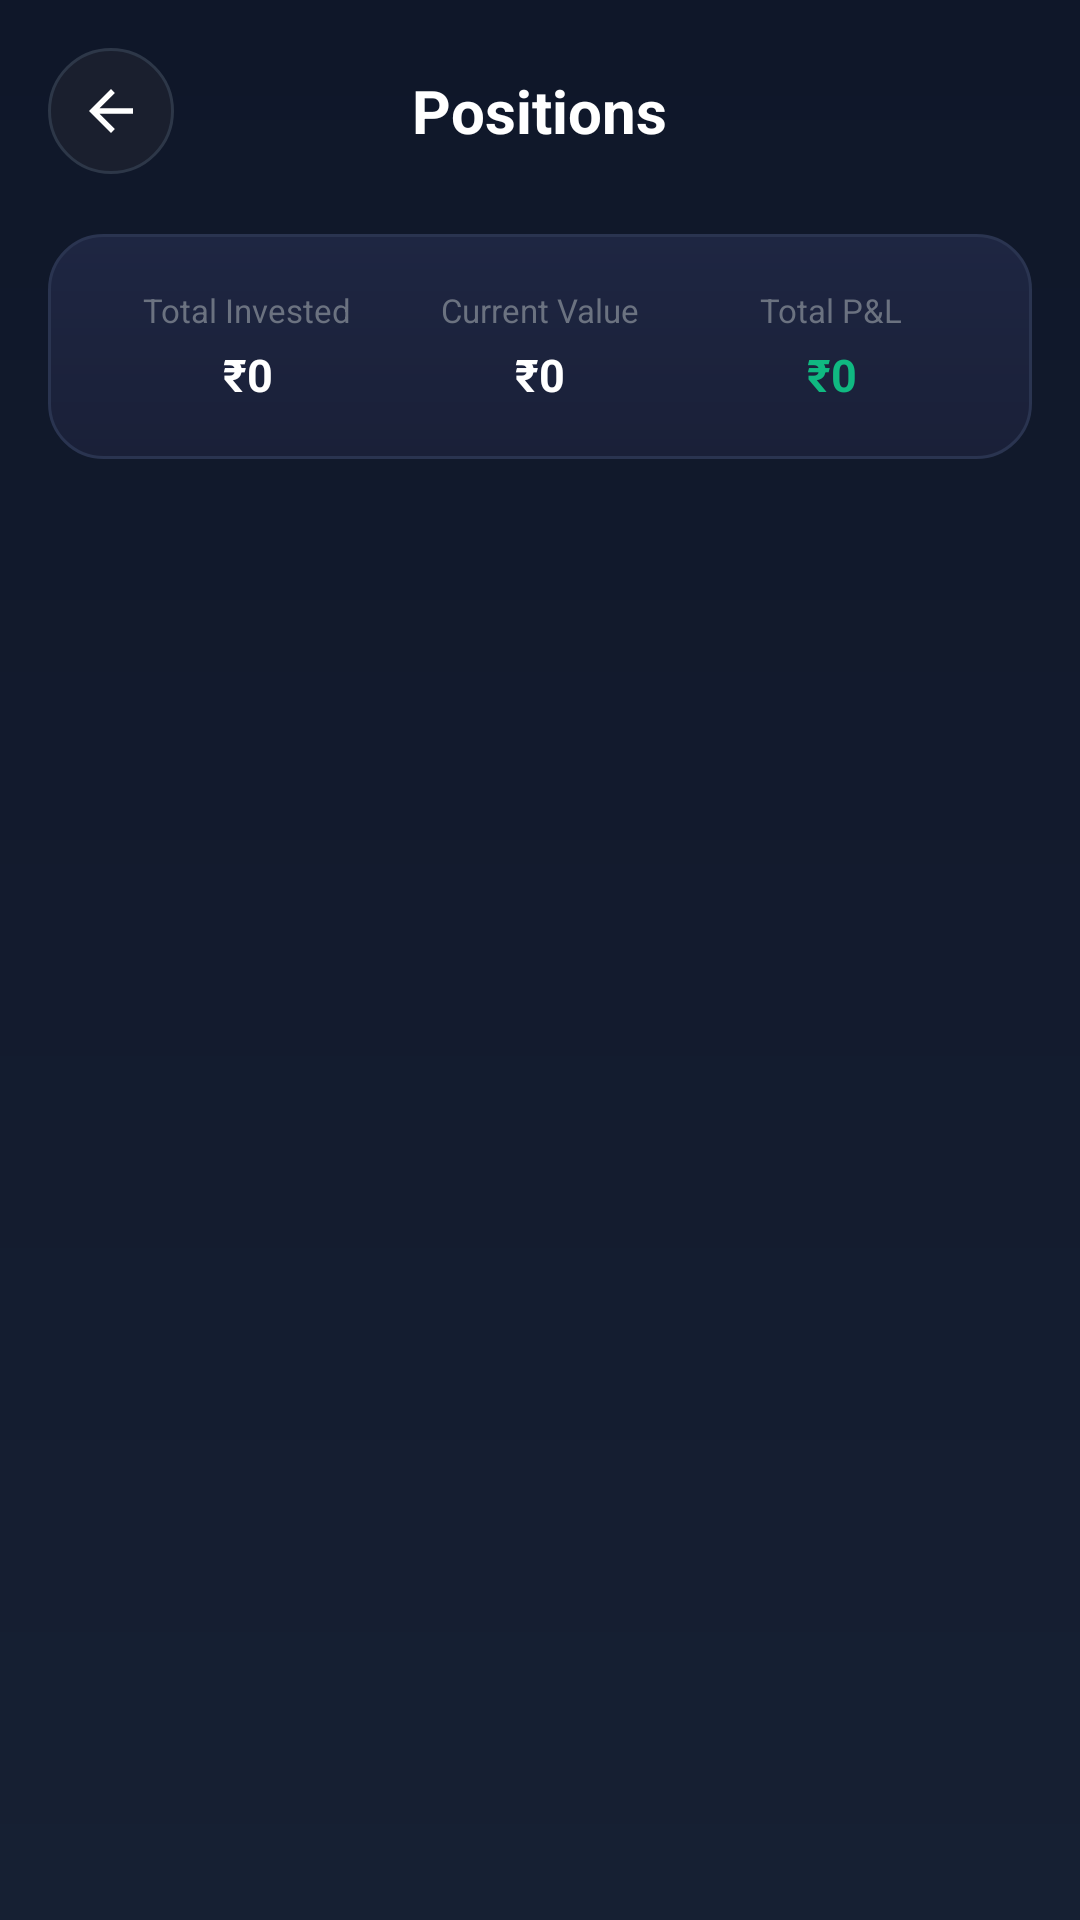

Where to tap for icons on this 1080×1920 app screen, as [x,y]:
back arrow: [111,111]
